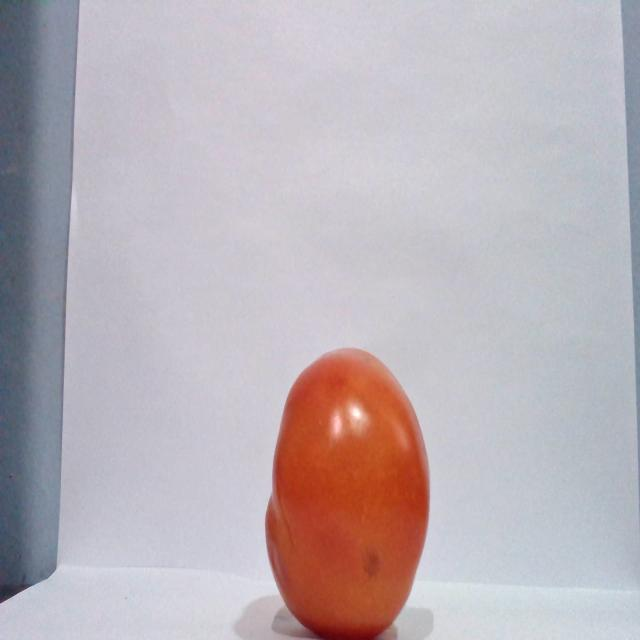Red: (263, 345, 431, 638)
